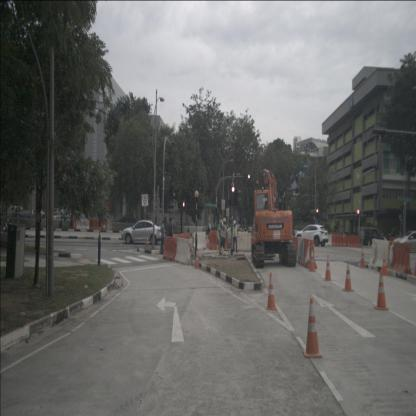human-pedestrian-adult: (168, 217, 174, 251), (160, 221, 166, 254), (360, 227, 364, 249), (208, 220, 211, 237)
movable_object-barrier: (369, 238, 394, 270), (390, 242, 412, 274), (175, 238, 192, 266), (171, 231, 191, 254), (209, 230, 233, 249), (162, 236, 178, 262), (232, 235, 252, 251), (192, 230, 207, 250), (318, 233, 333, 248), (332, 235, 348, 247), (90, 219, 107, 230), (346, 236, 361, 248), (76, 218, 90, 230), (106, 219, 114, 231), (71, 218, 77, 229)
movable_object-trafficcone: (303, 298, 323, 359), (374, 269, 389, 312), (265, 271, 278, 312), (342, 259, 355, 292), (324, 255, 333, 283), (358, 244, 367, 268), (380, 250, 388, 276), (308, 248, 316, 273), (193, 248, 201, 270), (146, 234, 150, 248), (206, 236, 210, 248), (367, 240, 370, 249), (73, 222, 76, 230)
vehicle-car: (122, 219, 166, 245), (295, 224, 328, 247), (355, 227, 389, 247), (392, 230, 416, 254), (8, 206, 23, 216), (52, 208, 64, 218), (38, 209, 49, 219), (52, 212, 64, 221), (30, 209, 40, 218)
